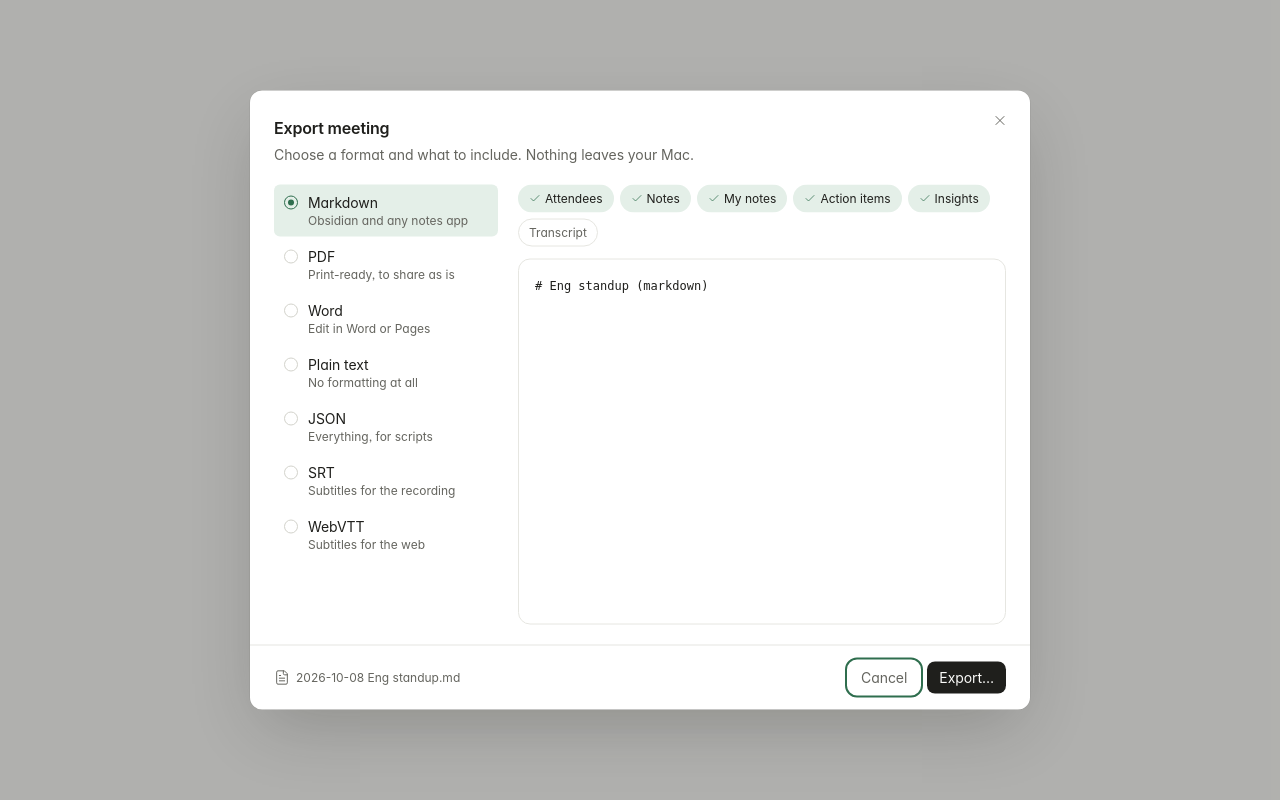
ExportDialog › formats with a fixed content explain why the sections are off
Expected: the text "# Eng standup (markdown)" is shown, [535,278,708,292]
Step 1. Click the radio button labelled "SRT Subtitles for the recording" → click(386, 480), box [274,454,498,506]
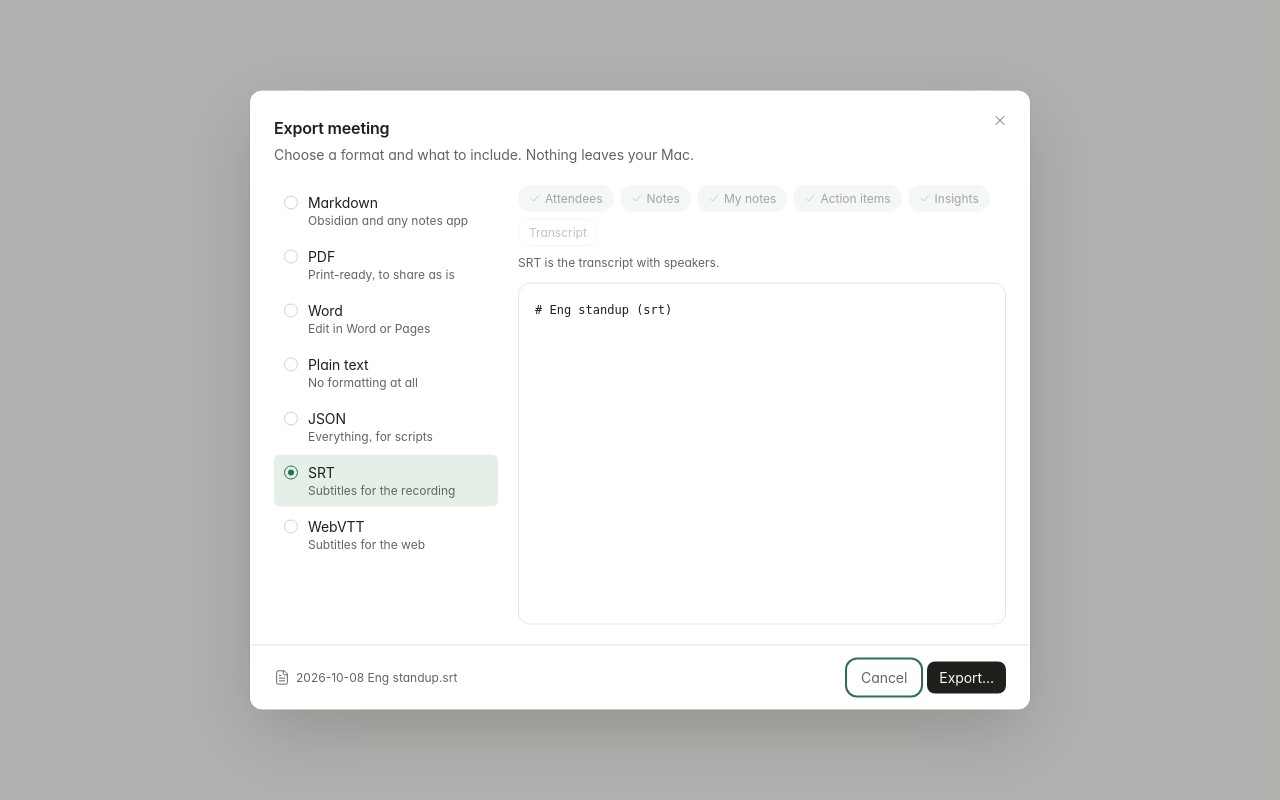
Expected: the text "SRT is the transcript with speakers." is shown, [518,254,719,270]
Expected: the button "Notes" is disabled, [620,184,691,212]
